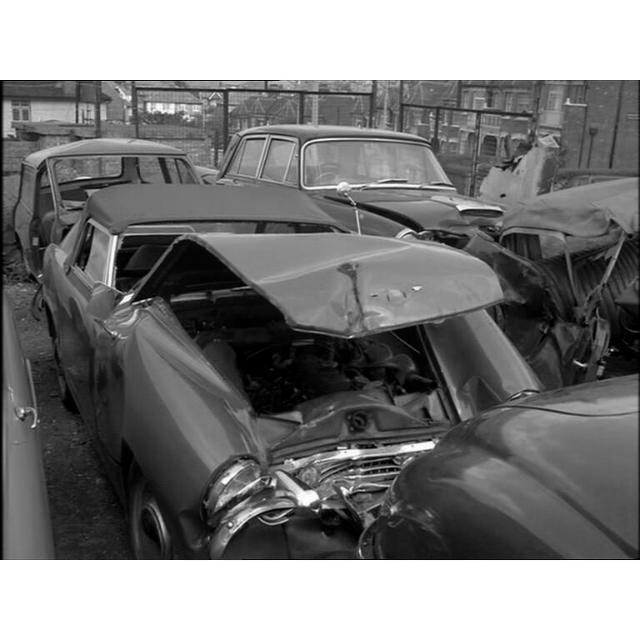bonnet-dent: (177, 200, 509, 355)
